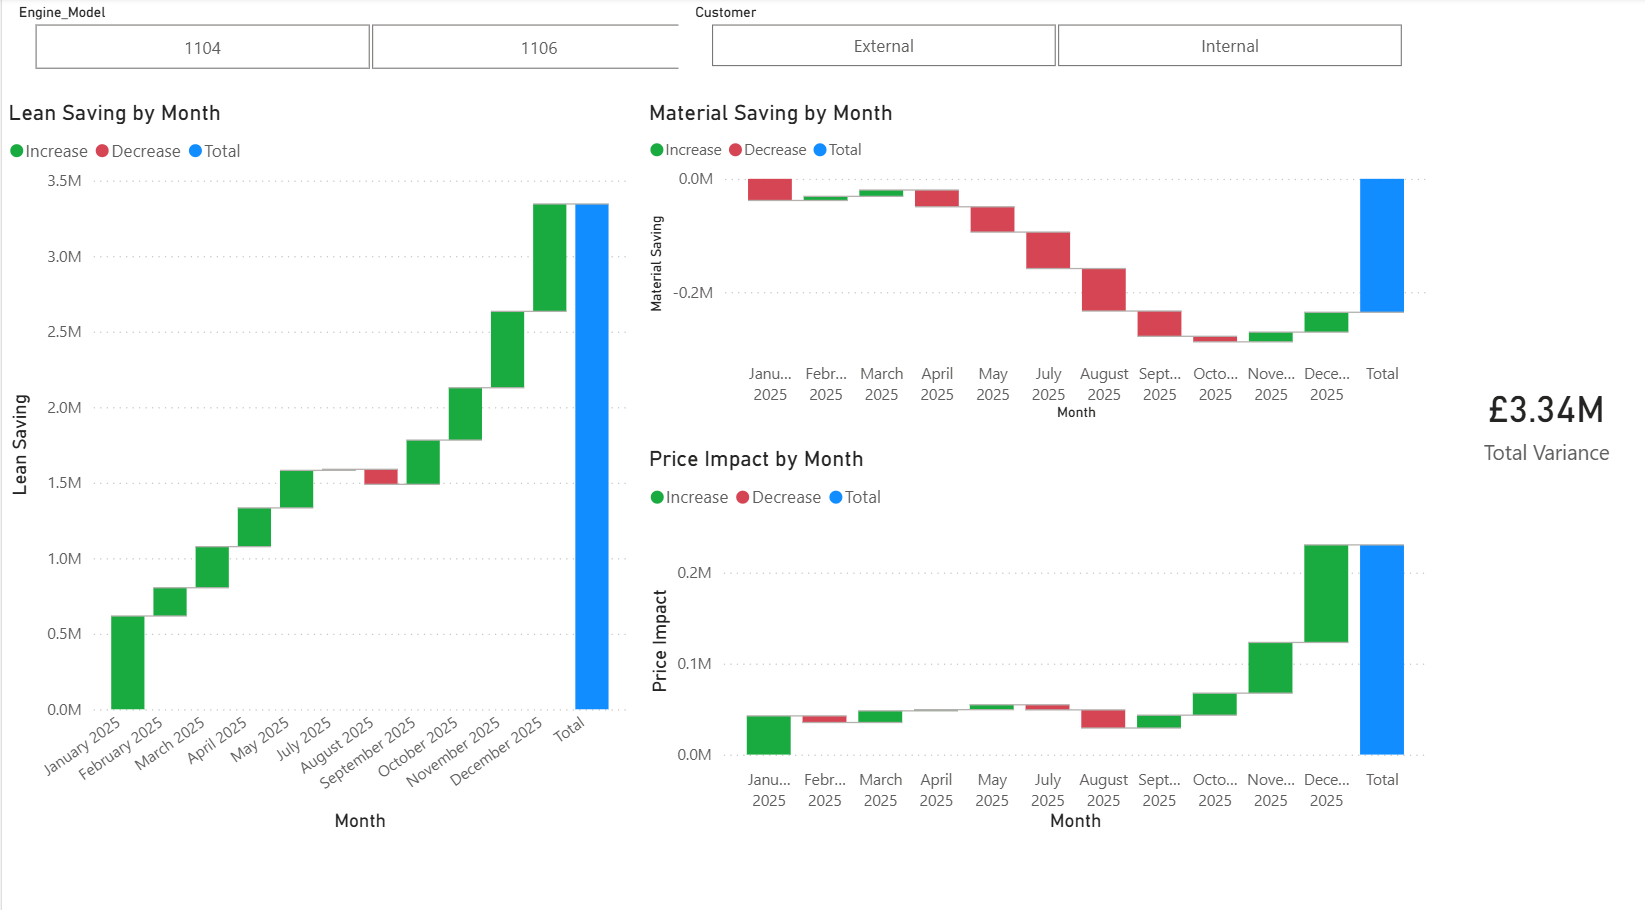

The dashboard page shown, as its layout file describes it:
{"tool":"powerbi","page":{"name":"Page 1","canvas":[1280,720],"ordinal":0},"visuals":[{"type":"waterfallChart","fields":{"Y":["Fact_Actuals.Lean Saving"],"Category":["Fact_Actuals.Month"]},"box":[0,78.8,486.7,570.1],"z":0},{"type":"slicer","fields":{"Values":["Dim_Budget.Engine_Model"]},"box":[0,0,567.8,62.6],"z":1000},{"type":"slicer","fields":{"Values":["Dim_Budget.Customer"]},"box":[522.6,0,582.8,60.3],"z":2000},{"type":"waterfallChart","fields":{"Y":["Fact_Actuals.Material Saving"],"Category":["Fact_Actuals.Month"]},"box":[494.8,78.8,610.7,252.6],"z":3000},{"type":"waterfallChart","fields":{"Y":["Fact_Actuals.Price Impact"],"Category":["Fact_Actuals.Month"]},"box":[494.8,346.5,610.7,302.4],"z":4000},{"type":"card","fields":{"Values":["Fact_Actuals.Total Variance"]},"box":[1105.4,20.9,175,611.8],"z":5000}]}

Visuals, with their boxes in screenshot pixels (x1, y1, x2, y2), scaled from the page's 1280x720 canvas onto the 1645x910 screenshot:
waterfallChart - Fact_Actuals.Lean Saving x Fact_Actuals.Month: bbox(0, 100, 625, 820)
slicer - Dim_Budget.Engine_Model: bbox(0, 0, 730, 79)
slicer - Dim_Budget.Customer: bbox(672, 0, 1421, 76)
waterfallChart - Fact_Actuals.Material Saving x Fact_Actuals.Month: bbox(636, 100, 1421, 419)
waterfallChart - Fact_Actuals.Price Impact x Fact_Actuals.Month: bbox(636, 438, 1421, 820)
card - Fact_Actuals.Total Variance: bbox(1421, 26, 1644, 800)
